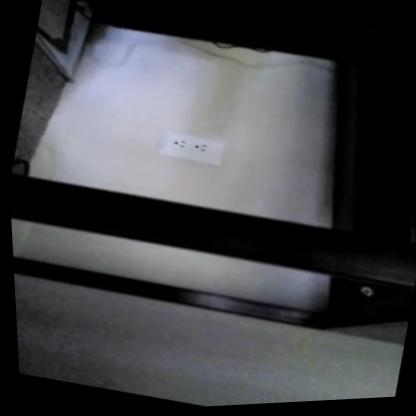OUTLET: (159, 126, 228, 168)
